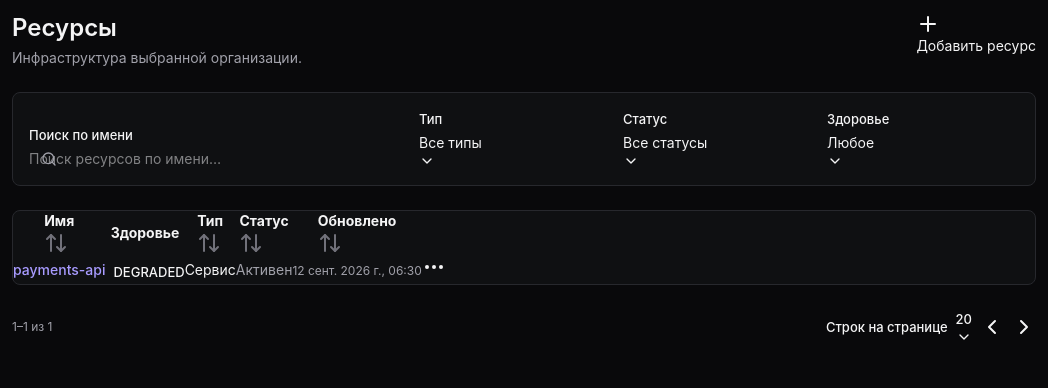
Test: ResourcesPage › shows mutation actions only to organization managers
Expected: the menu item "Редактировать" is not shown
Expected: the menu item "Удалить" is not shown
Click the button named "Действия для payments-api" at (434, 267), box top-left (422, 255), bottom-right (446, 279)
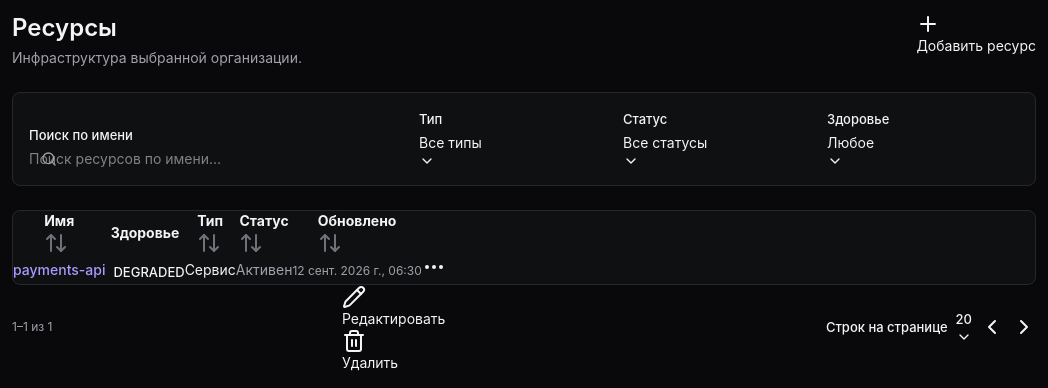
Expected: the menu item "Редактировать" is shown, top-left (342, 285), bottom-right (445, 327)
Expected: the menu item "Удалить" is shown, top-left (342, 329), bottom-right (398, 371)
